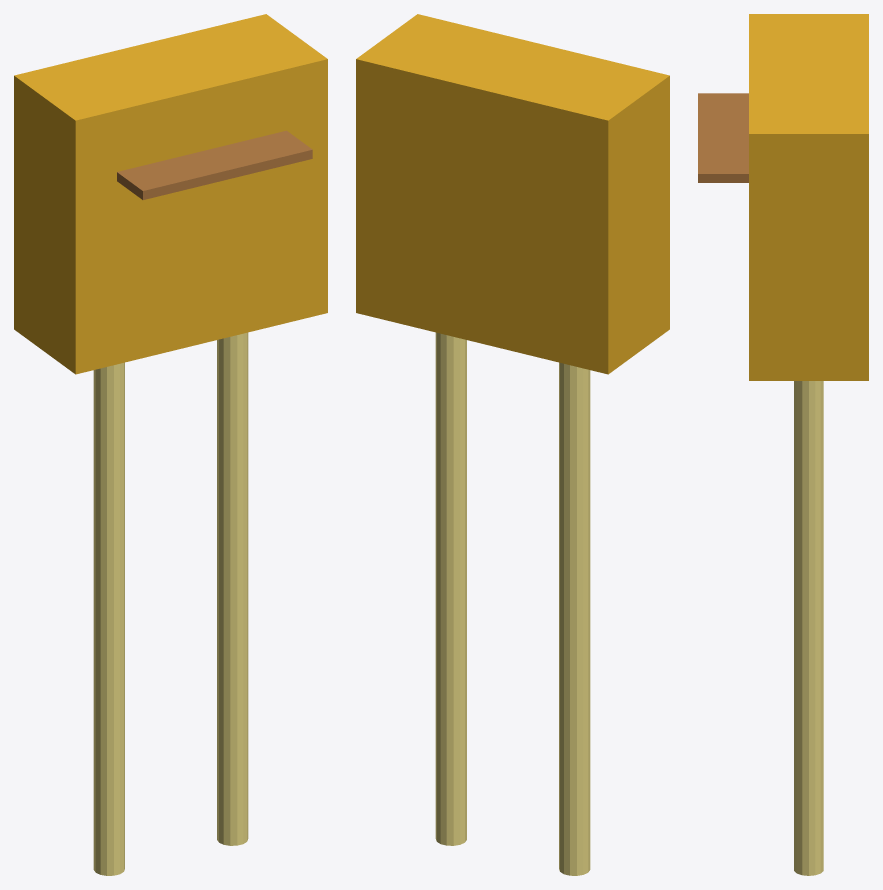
Rendered from capacitor.glb.
3 views of the same model, side by side, from view 1: azimuth 30°, elevation 25°; view 2: azimuth 150°, elevation 25°; view 3: azimuth 270°, elevation 25° (orthographic). The views are drawn at different scales.
Parts seen in each view (by area): view 1: capacitor-100nf-ceramic_mesh; view 2: capacitor-100nf-ceramic_mesh; view 3: capacitor-100nf-ceramic_mesh.
Part boxes in pixels (x1,y1,x2,y2): capacitor-100nf-ceramic_mesh: [14, 14, 327, 875]; capacitor-100nf-ceramic_mesh: [356, 14, 669, 875]; capacitor-100nf-ceramic_mesh: [698, 14, 868, 875].
Bounding box in the file's own units: 5.2 × 15.5 × 3.13.
